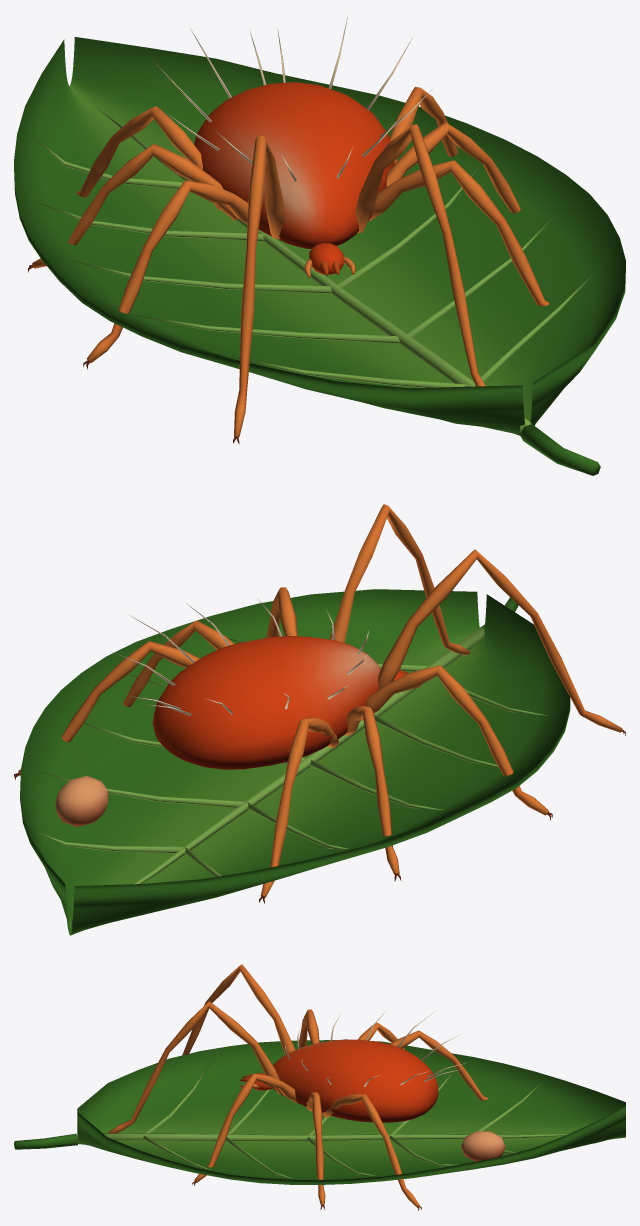
Rendered from PredatoryMite.fbx.
3 views of the same model, one above another, from view 1: azimuth 30°, elevation 25°; view 2: azimuth 150°, elevation 25°; view 3: azimuth 270°, elevation 25° (orthographic). The views are drawn at different scales.
Parts seen in each view (by area): view 1: PredatoryMite; view 2: PredatoryMite; view 3: PredatoryMite.
Boxes of the visible parts, x1,y1,x2,y2 form: PredatoryMite: (14,17,625,475); PredatoryMite: (14,504,625,935); PredatoryMite: (14,964,625,1210).
Size of the model in its own units: 0.9505 by 0.4323 by 1.67.
